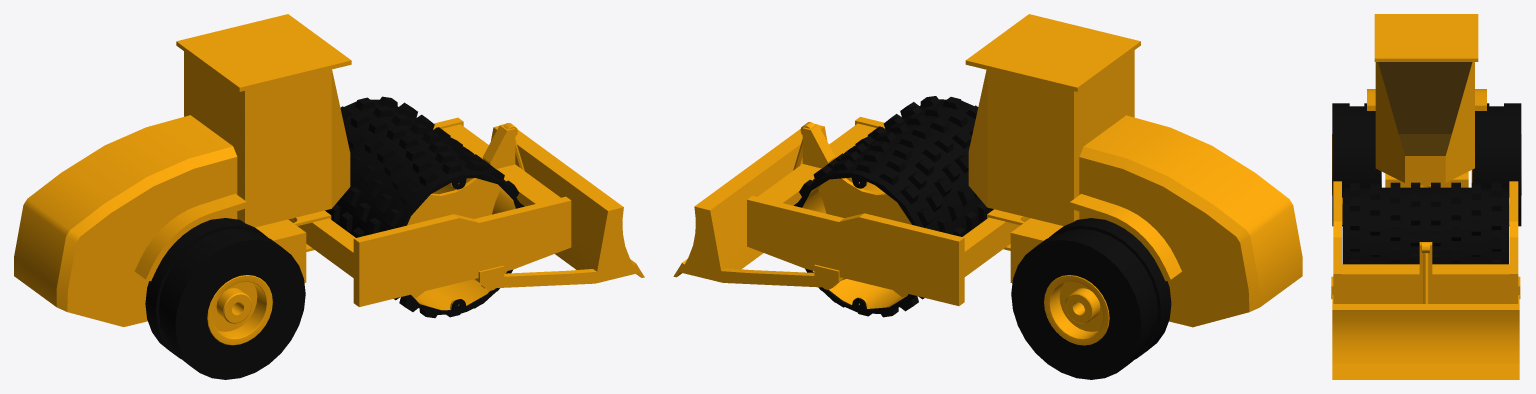
File: 羊角滾.FBX
3 renders of one model, left to right at view 1: azimuth 30°, elevation 25°; view 2: azimuth 150°, elevation 25°; view 3: azimuth 270°, elevation 25°, orthographic. The views are drawn at different scales.
Parts seen in each view (by area): view 1: 羊角滾, 羊角滾車輪, 羊角滾筒; view 2: 羊角滾, 羊角滾車輪, 羊角滾筒; view 3: 羊角滾, 羊角滾筒, 羊角滾車輪.
Boxes of the visible parts, left/top/right/bottom form: 羊角滾: left=14, top=14, right=644, bottom=326; 羊角滾車輪: left=145, top=218, right=305, bottom=379; 羊角滾筒: left=325, top=96, right=524, bottom=318; 羊角滾: left=673, top=14, right=1302, bottom=327; 羊角滾車輪: left=1011, top=218, right=1171, bottom=379; 羊角滾筒: left=794, top=96, right=993, bottom=317; 羊角滾: left=1331, top=14, right=1520, bottom=379; 羊角滾筒: left=1342, top=182, right=1508, bottom=264; 羊角滾車輪: left=1332, top=103, right=1521, bottom=226.
Bounding box in the file's own units: 266 × 123 × 97.31.
